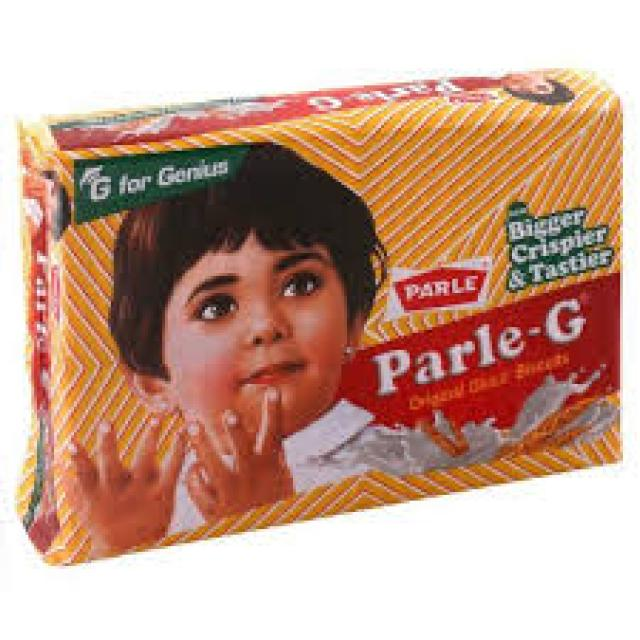parle-g: (22, 64, 624, 564)
